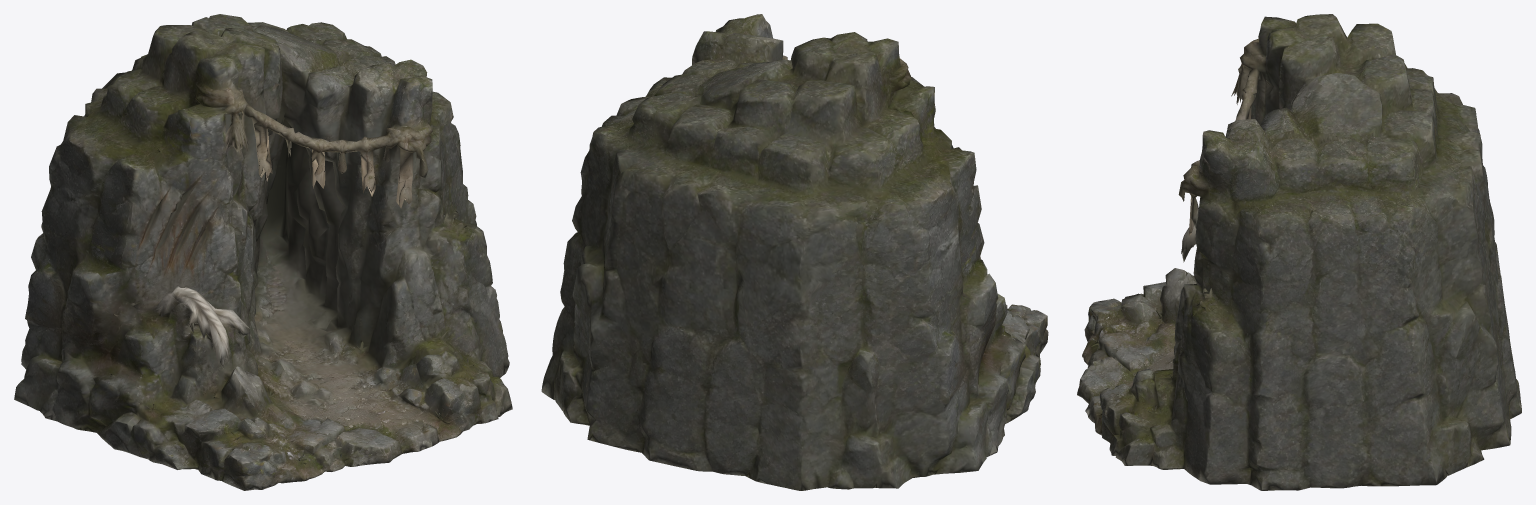
The model's file is t951_tiger_cave.glb.
3 views of the same model, side by side, from view 1: azimuth 30°, elevation 25°; view 2: azimuth 150°, elevation 25°; view 3: azimuth 270°, elevation 25° (orthographic). The views are drawn at different scales.
Visible parts, largest first — view 1: tripo_node_21d655c3-3597-47ea-857c-a0a2f9a40cf0; view 2: tripo_node_21d655c3-3597-47ea-857c-a0a2f9a40cf0; view 3: tripo_node_21d655c3-3597-47ea-857c-a0a2f9a40cf0.
Part boxes in pixels (box(x1,y1,x2,y2)): tripo_node_21d655c3-3597-47ea-857c-a0a2f9a40cf0: box(14, 14, 512, 490); tripo_node_21d655c3-3597-47ea-857c-a0a2f9a40cf0: box(541, 14, 1048, 490); tripo_node_21d655c3-3597-47ea-857c-a0a2f9a40cf0: box(1077, 14, 1521, 490).
Bounding box in the file's own units: 0.9819 × 0.7893 × 0.9203.
Materials: 1 (1 with a texture image).
